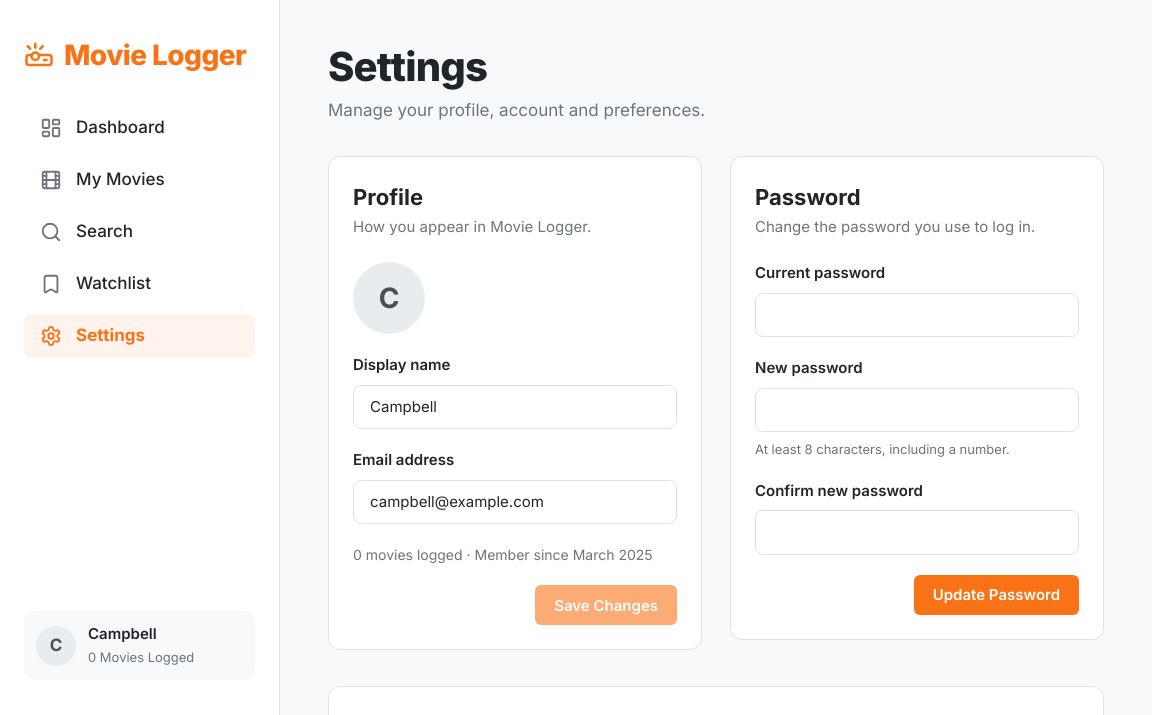
Test: Settings page › updates the profile for the signed-in user only
Replace the text in the field labelled "Display name" with "Cam" at (515, 407), box 353,384 -> 677,429
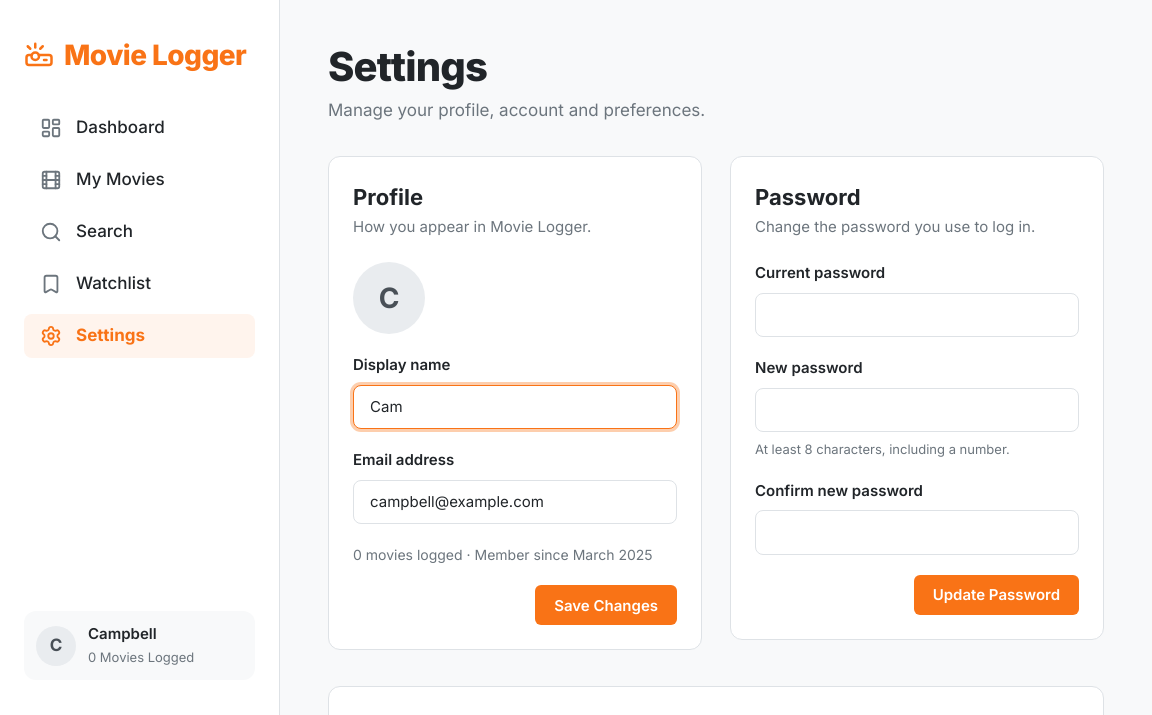
Click the button "Save Changes" at (606, 605), box 535,585 -> 677,625
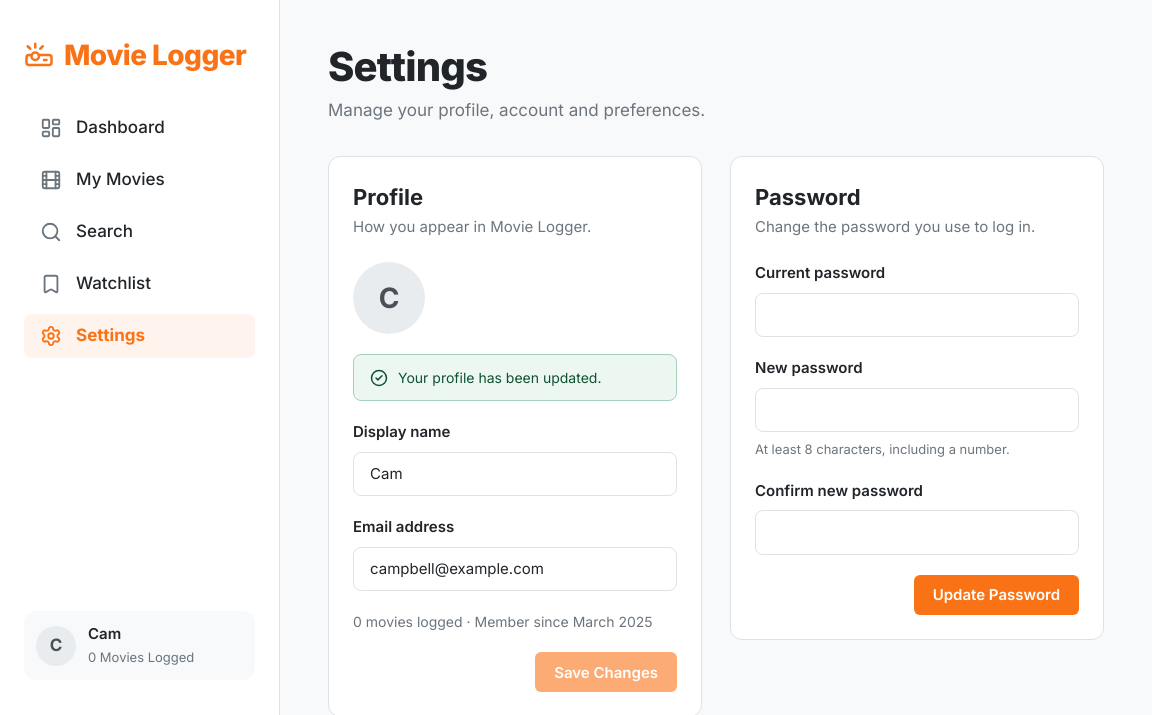
Expected: the text "Cam" is shown, 88,624 -> 121,643
Now the text "Your profile has been updated." is shown, box 398,367 -> 602,388
